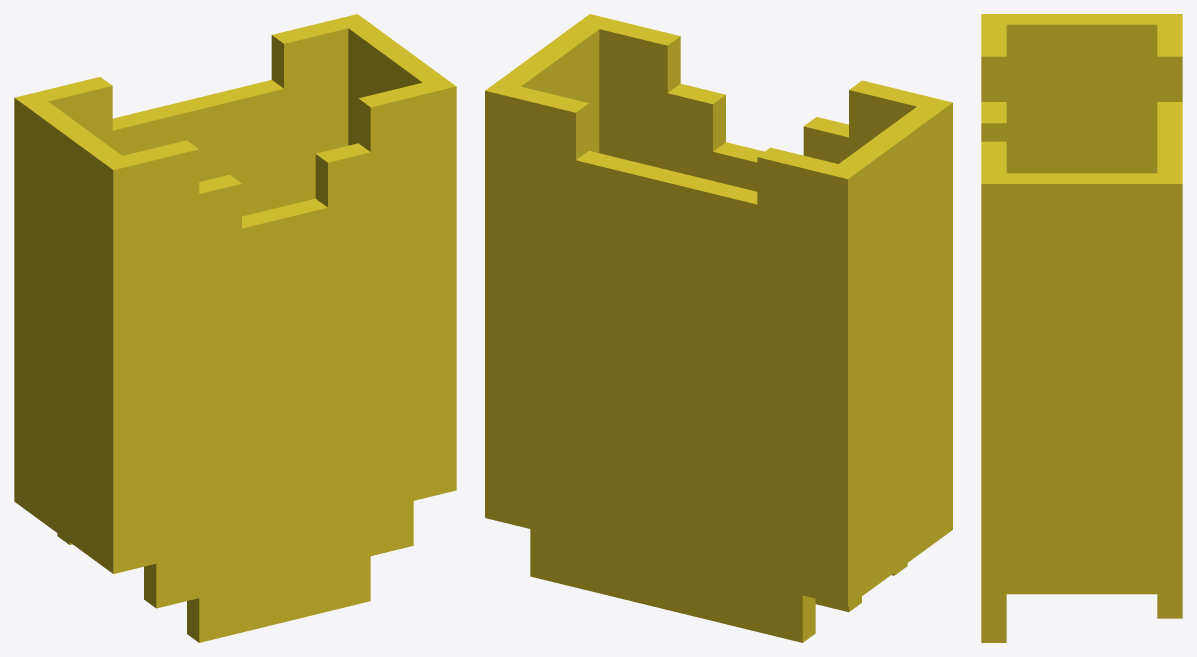
File: Armor.fbx
3 views of the same model, side by side, from view 1: azimuth 30°, elevation 25°; view 2: azimuth 150°, elevation 25°; view 3: azimuth 270°, elevation 25° (orthographic). The views are drawn at different scales.
Parts seen in each view (by area): view 1: Chestplate:Gold; view 2: Chestplate:Gold; view 3: Chestplate:Gold.
Boxes of the visible parts, x1,y1,x2,y2 form: Chestplate:Gold: [14, 14, 456, 642]; Chestplate:Gold: [485, 14, 952, 642]; Chestplate:Gold: [981, 14, 1182, 642].
Size of the model in its own units: 53.19 by 73.13 by 26.59.
